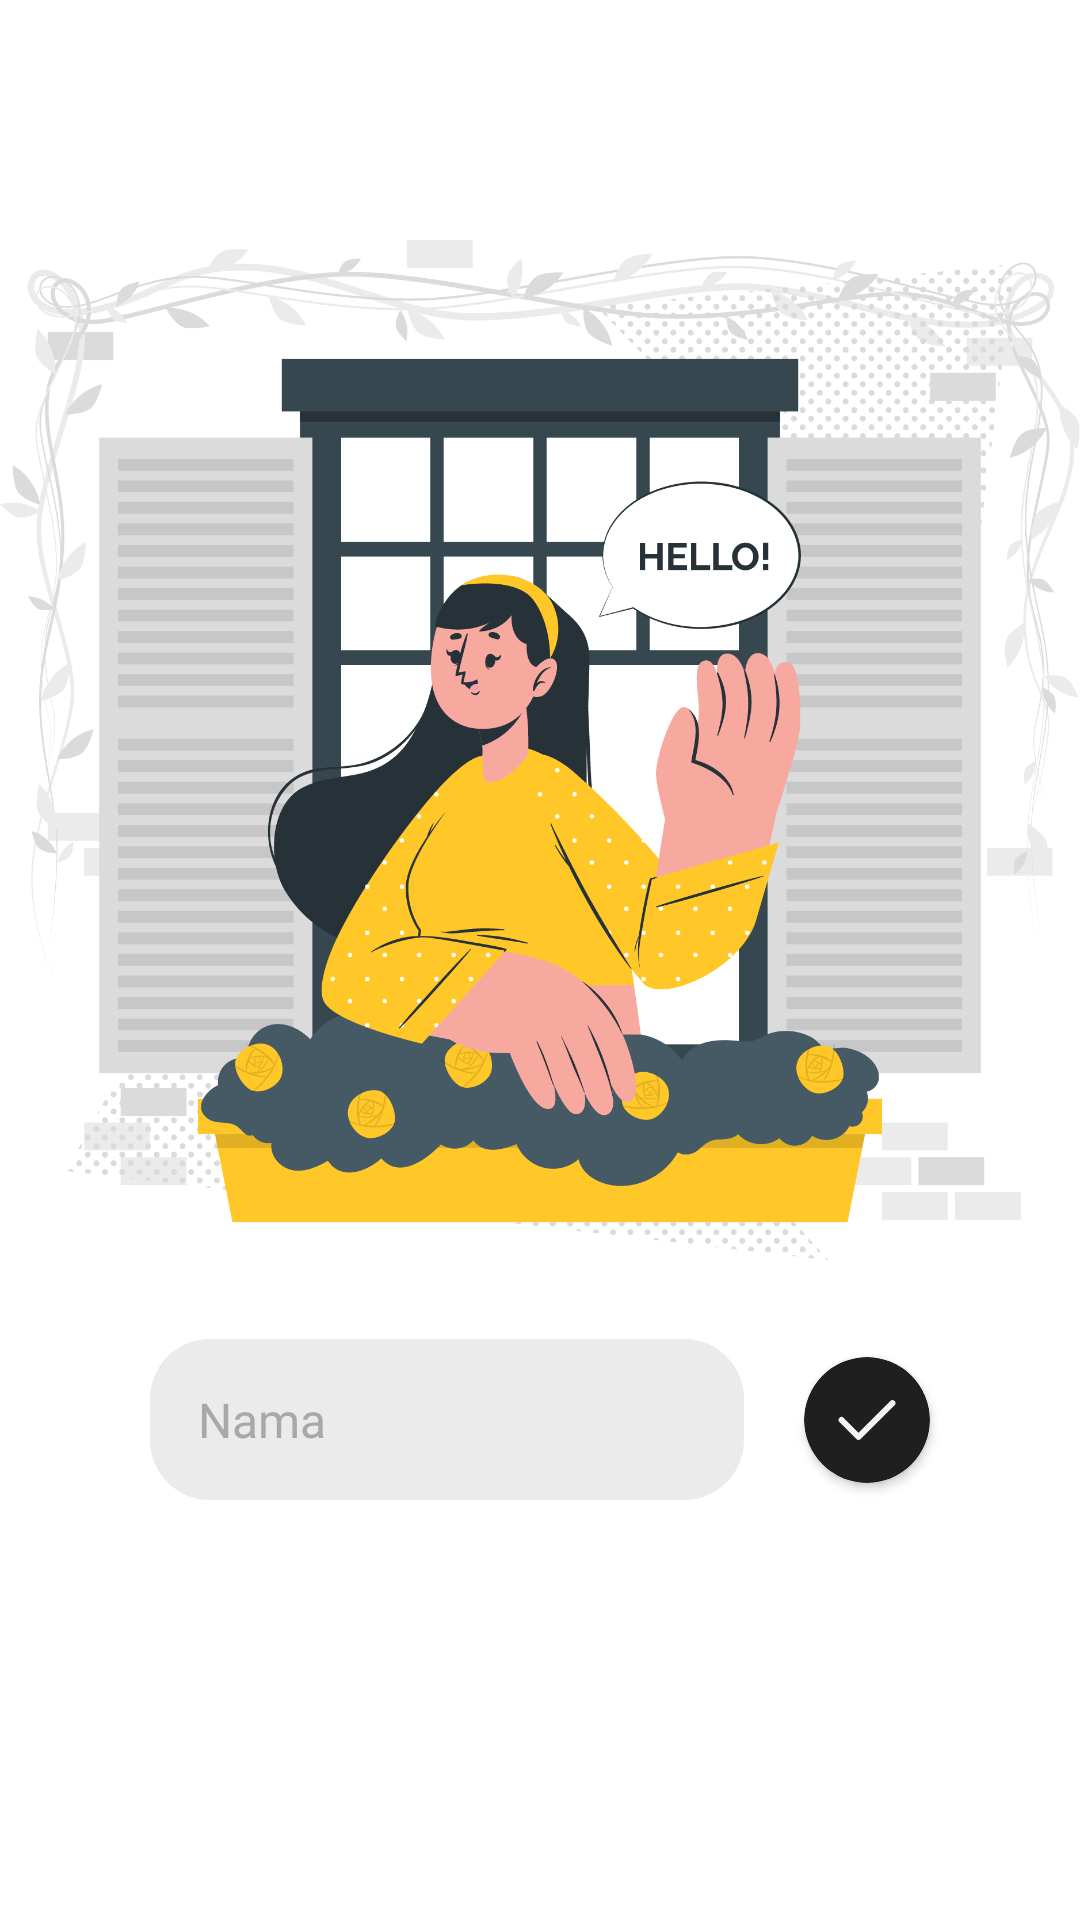

Icons on this 1080px×1920px Android screen, each with the point to tap as [x,y]:
check: [867,1420]
